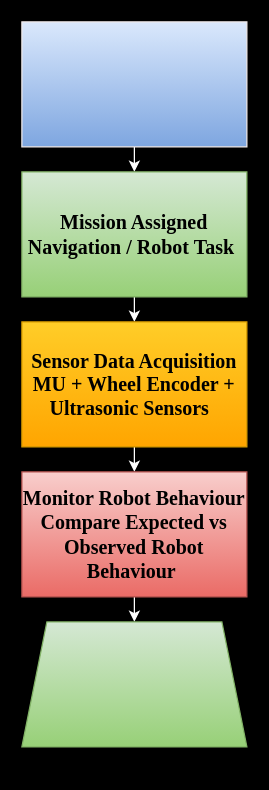
The diagram is 269 pixels wide and 790 high, and some of its shapes have lost their labels. Here are the shapes that lost their labels. From the top down, the centre of each, then its label:
the point at 134,84: START
the point at 134,684: Anomaly Detected
